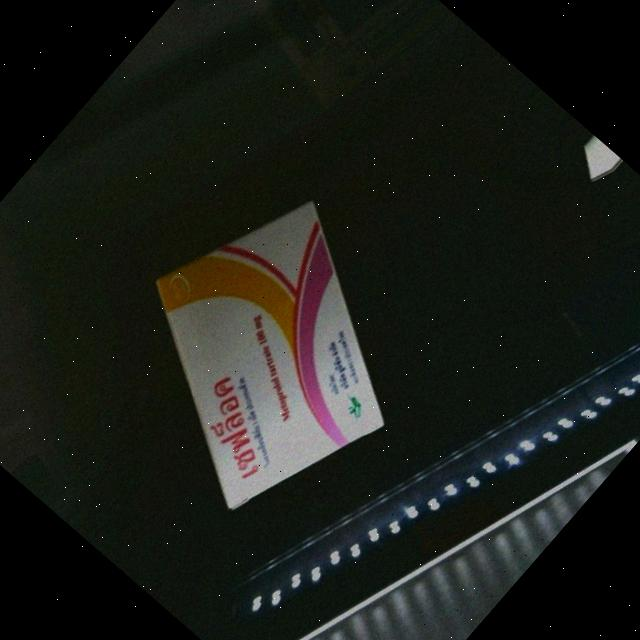sefloc: (146, 201, 396, 510)
